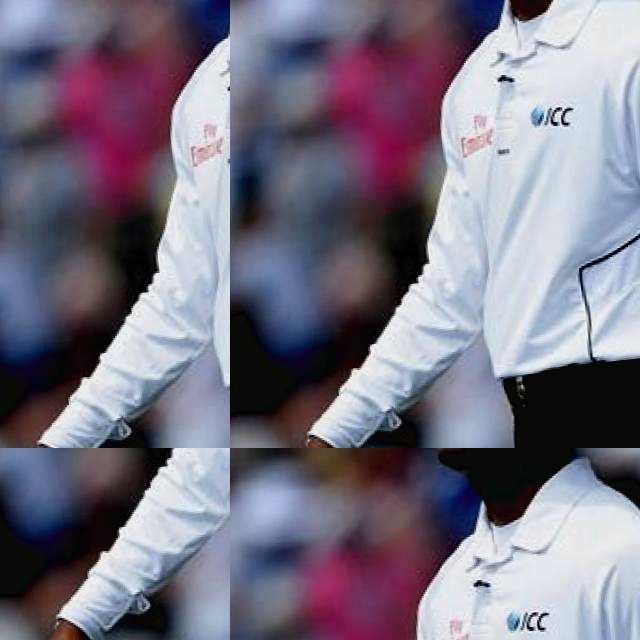No_Action: (230, 58, 640, 448), (230, 448, 640, 640)
No_Ball: (0, 448, 230, 640)
